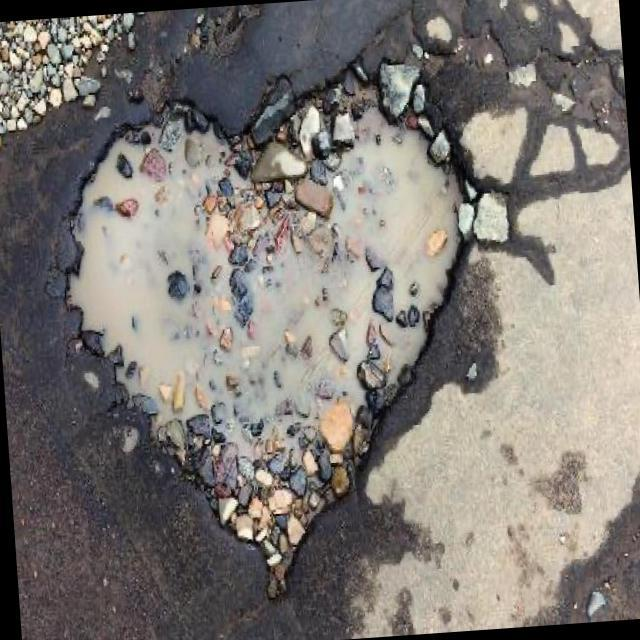Pothole: (68, 70, 460, 596)
